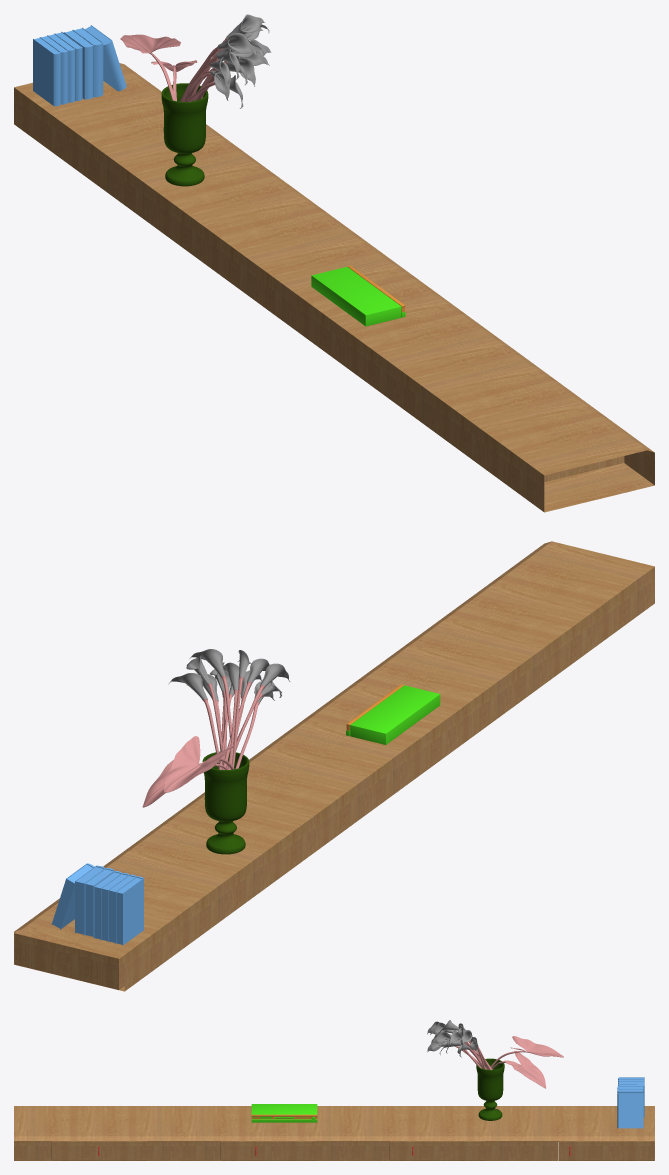
Rendered from table.FBX.
3 renders of one model, top to bottom at view 1: azimuth 30°, elevation 25°; view 2: azimuth 150°, elevation 25°; view 3: azimuth 270°, elevation 25°, orthographic. The views are drawn at different scales.
Visible parts, largest first — view 1: table; view 2: table; view 3: table.
Part boxes in pixels (x1,y1,x2,y2): table: (14, 14, 654, 512); table: (14, 541, 654, 991); table: (14, 1020, 654, 1160).
Size of the model in its own units: 512 by 899 by 4148.
